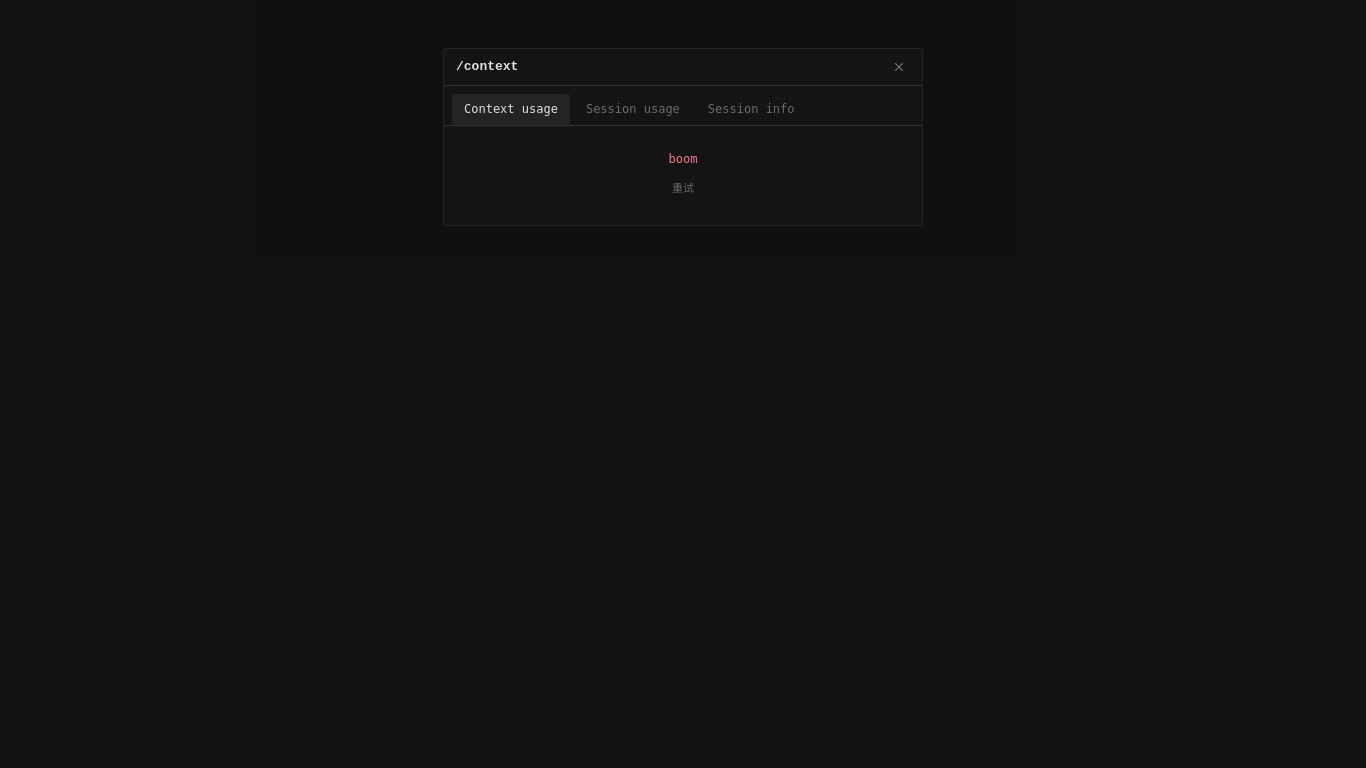
it: ContextModal › 请求失败 → 错误 + 重试成功
Expected: the text "boom" is shown, left=668, top=152, right=697, bottom=166
Click the button "重试" at x=683, y=189, box left=660, top=176, right=706, bottom=201
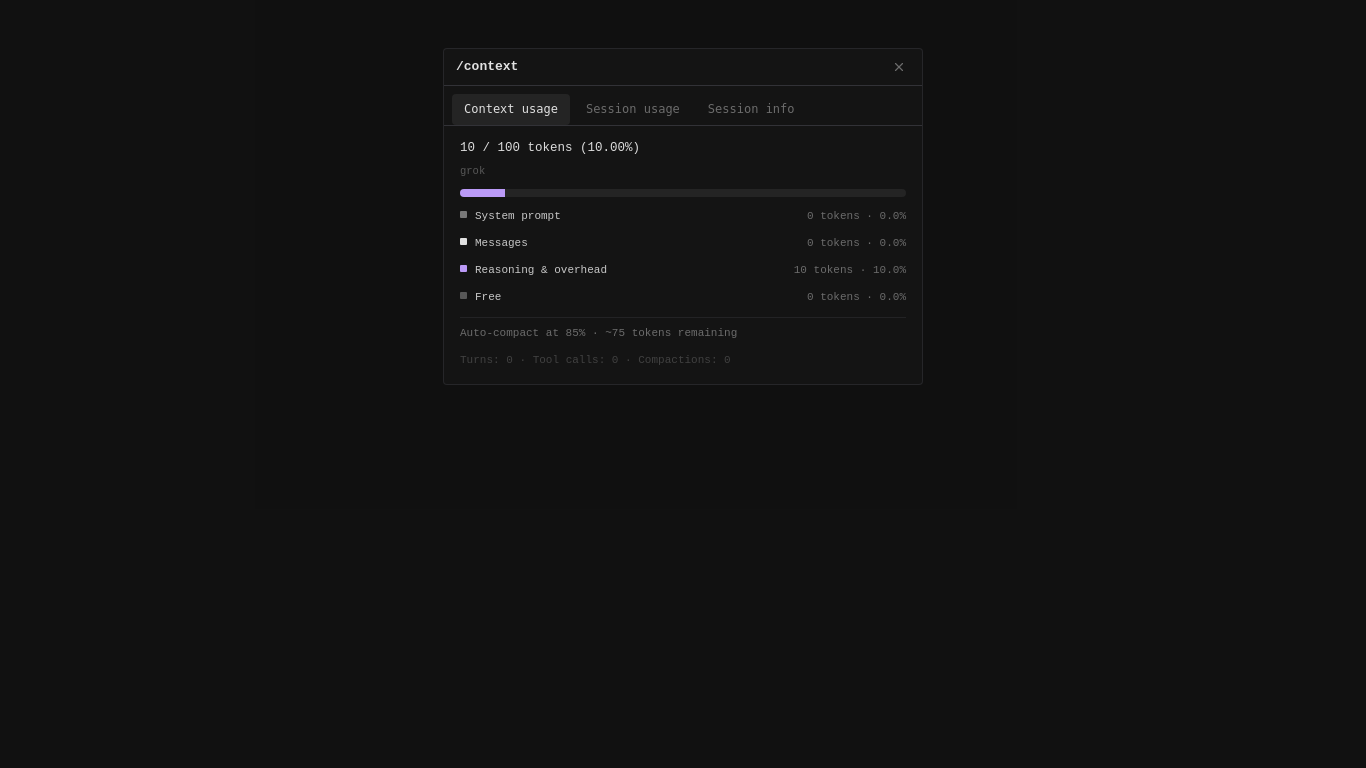
Expected: the text "10 / 100 tokens (10.00%)" is shown, left=460, top=141, right=640, bottom=155
